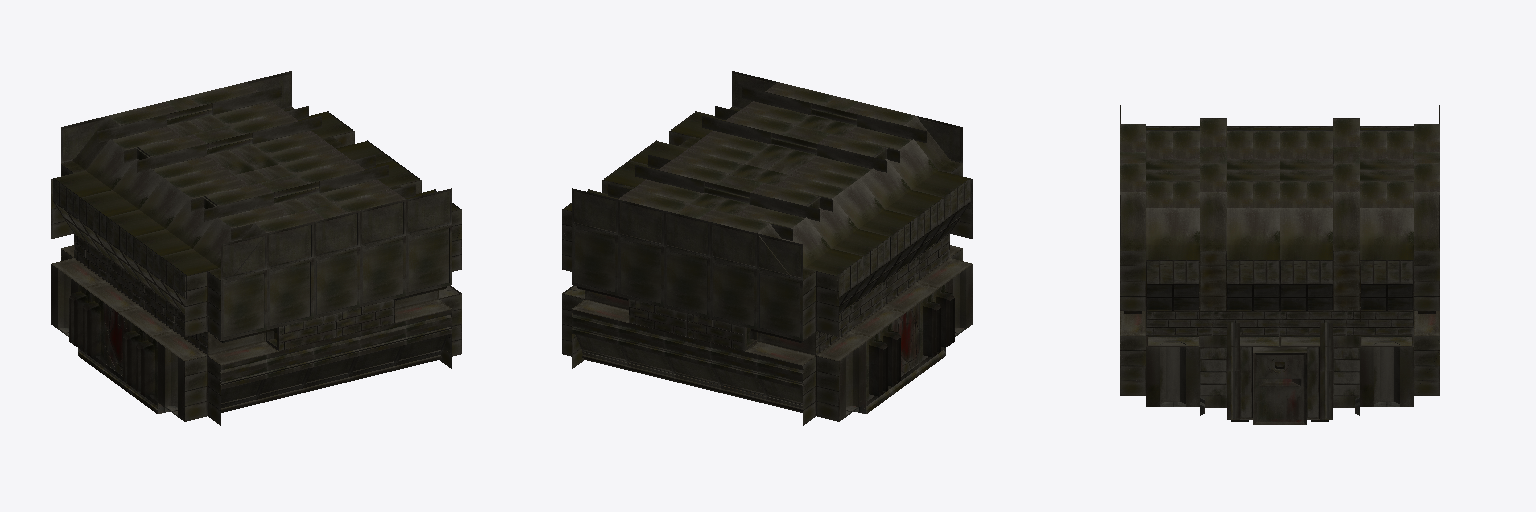
3 renders of one model, left to right at view 1: azimuth 30°, elevation 25°; view 2: azimuth 150°, elevation 25°; view 3: azimuth 270°, elevation 25°, orthographic.
Parts seen in each view (by area): view 1: pPlane606, pPlane605, pPlane603, pPlane604, pPlane607, pPlane718, pPlane716, pPlane717, pPlane719, pPlane720, pPlane601, pPlane600 (+28 smaller); view 2: pPlane661, pPlane660, pPlane659, pPlane658, pPlane662, pPlane718, pPlane720, pPlane719, pPlane717, pPlane716, pPlane656, pPlane655 (+28 smaller); view 3: polySurface249, pPlane694, pPlane693, pPlane712, pPlane715, pPlane713, pPlane714, polySurface259, polySurface256, pPlane707, pPlane706, pPlane723 (+28 smaller).
Part boxes in pixels (left/top/right/bottom): pPlane606: left=267, top=258, right=313, bottom=329; pPlane605: left=314, top=247, right=359, bottom=318; pPlane603: left=406, top=225, right=451, bottom=295; pPlane604: left=360, top=236, right=405, bottom=306; pPlane607: left=221, top=270, right=266, bottom=340; pPlane718: left=108, top=178, right=189, bottom=236; pPlane716: left=54, top=139, right=134, bottom=197; pPlane717: left=80, top=159, right=162, bottom=216; pPlane719: left=135, top=198, right=214, bottom=255; pPlane720: left=161, top=217, right=241, bottom=275; pPlane601: left=267, top=222, right=313, bottom=269; pPlane600: left=314, top=211, right=359, bottom=257; pPlane661: left=710, top=258, right=756, bottom=329; pPlane660: left=664, top=247, right=709, bottom=318; pPlane659: left=618, top=236, right=663, bottom=306; pPlane658: left=572, top=225, right=617, bottom=295; pPlane662: left=757, top=270, right=802, bottom=340; pPlane718: left=834, top=178, right=915, bottom=236; pPlane720: left=889, top=139, right=969, bottom=197; pPlane719: left=861, top=159, right=943, bottom=216; pPlane717: left=809, top=198, right=888, bottom=255; pPlane716: left=782, top=217, right=862, bottom=275; pPlane656: left=710, top=222, right=756, bottom=269; pPlane655: left=664, top=211, right=709, bottom=257; polySurface249: left=1253, top=353, right=1306, bottom=424; pPlane694: left=1146, top=341, right=1199, bottom=406; pPlane693: left=1360, top=341, right=1413, bottom=406; pPlane712: left=1360, top=208, right=1413, bottom=259; pPlane715: left=1146, top=208, right=1199, bottom=259; pPlane713: left=1280, top=208, right=1332, bottom=259; pPlane714: left=1227, top=208, right=1279, bottom=259; polySurface259: left=1146, top=311, right=1212, bottom=335; polySurface256: left=1347, top=311, right=1413, bottom=335; pPlane707: left=1200, top=251, right=1226, bottom=310; pPlane706: left=1333, top=251, right=1359, bottom=310; pPlane723: left=1200, top=192, right=1226, bottom=250.
Size of the model in its own units: 796 by 502 by 732.
Materials: 6 (6 with a texture image).